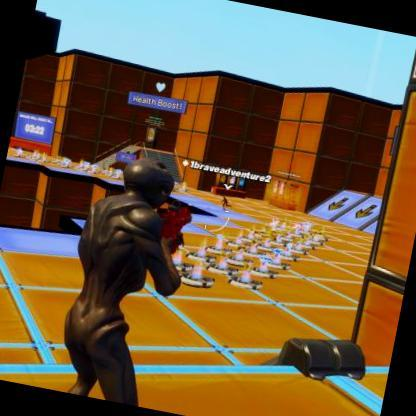person: (44, 144, 201, 408), (215, 196, 232, 214)
